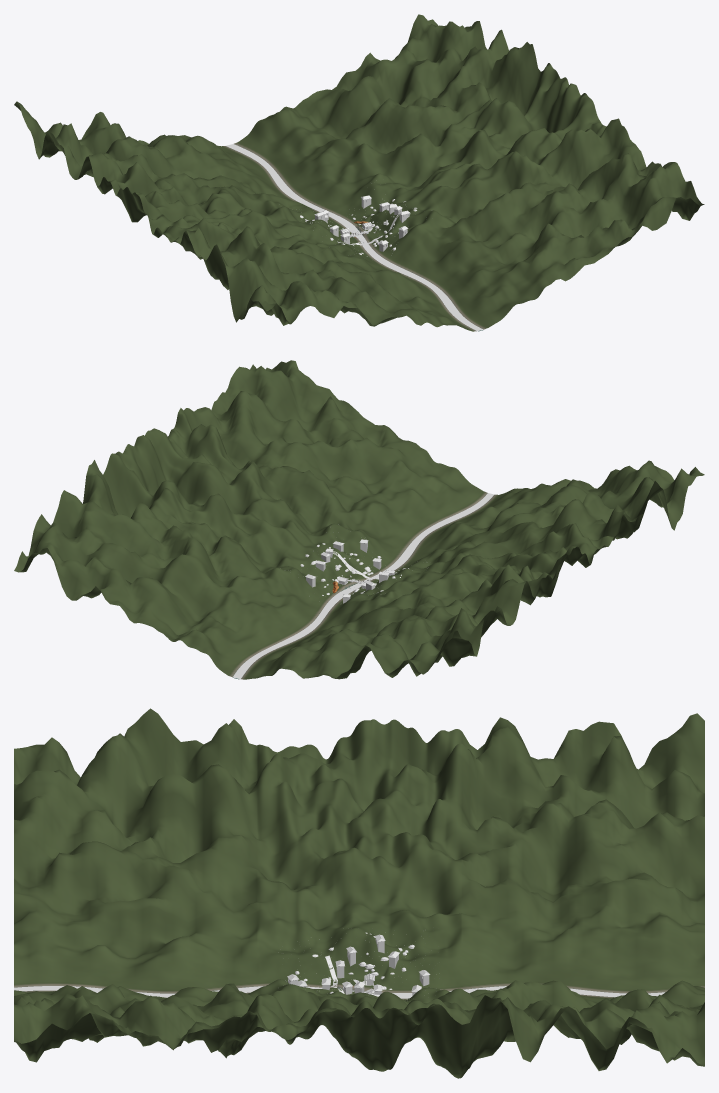
File: dawei.glb
The picture shows the model from 3 angles, top to bottom: view 1: azimuth 30°, elevation 25°; view 2: azimuth 150°, elevation 25°; view 3: azimuth 270°, elevation 25°; orthographic projection. The views are drawn at different scales.
Parts seen in each view (by area): view 1: Continuous terrain, River surface; view 2: Continuous terrain, River surface; view 3: Continuous terrain, River surface, Historic tile.001.
Part boxes in pixels (box(x1,y1,x2,y2)): Continuous terrain: box(14, 14, 704, 331); River surface: box(226, 144, 483, 331); Continuous terrain: box(14, 360, 704, 679); River surface: box(232, 493, 494, 679); Continuous terrain: box(14, 708, 704, 1078); River surface: box(14, 986, 664, 998); Historic tile.001: box(287, 934, 429, 991).
Bounding box in the file's own units: 407 × 94.67 × 407.
Materials: 59 (35 with a texture image).
